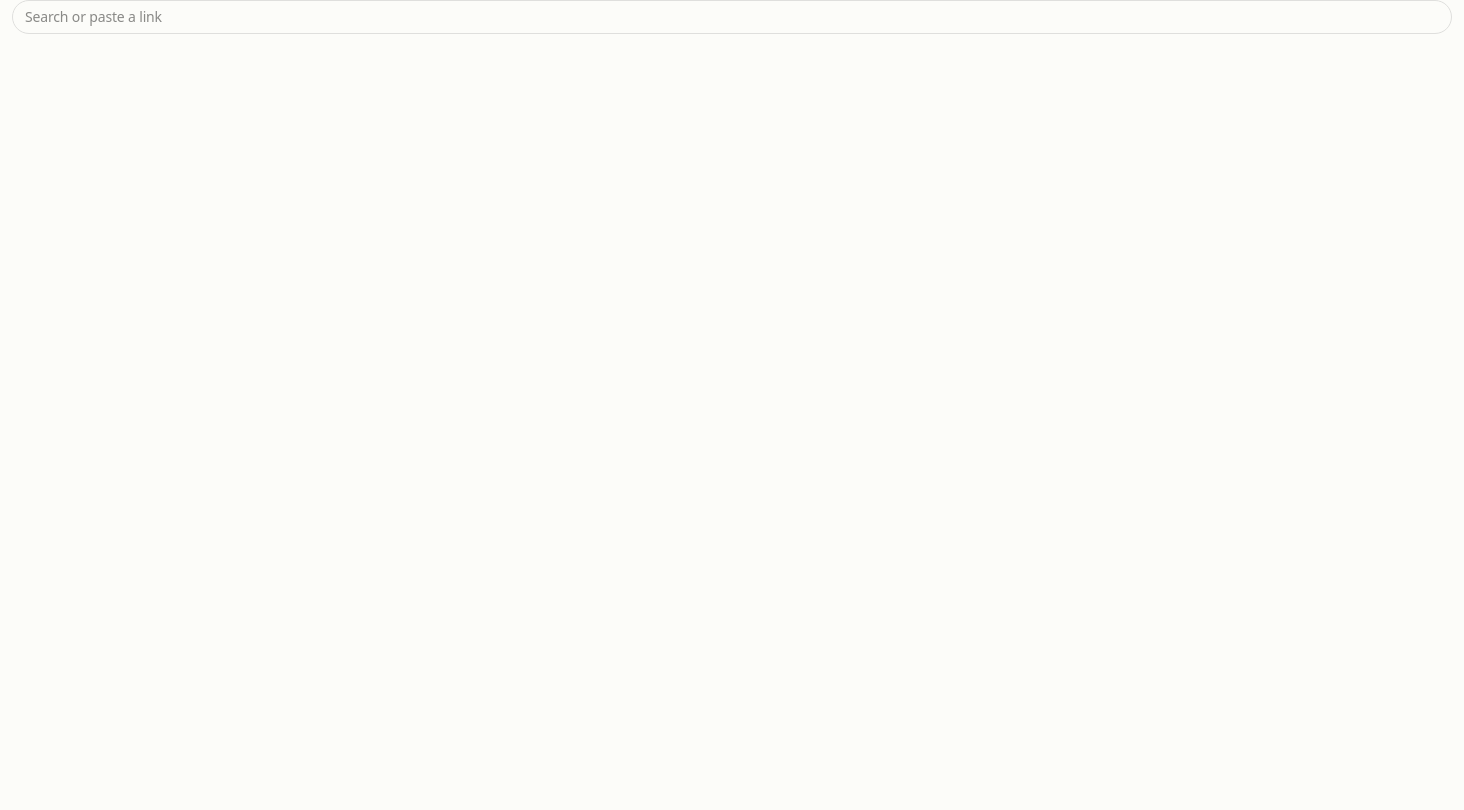
pasting map links › explains when a Google link carries no location
Click the dropdown named "Add a place": (732, 17) [12,0,1452,34]
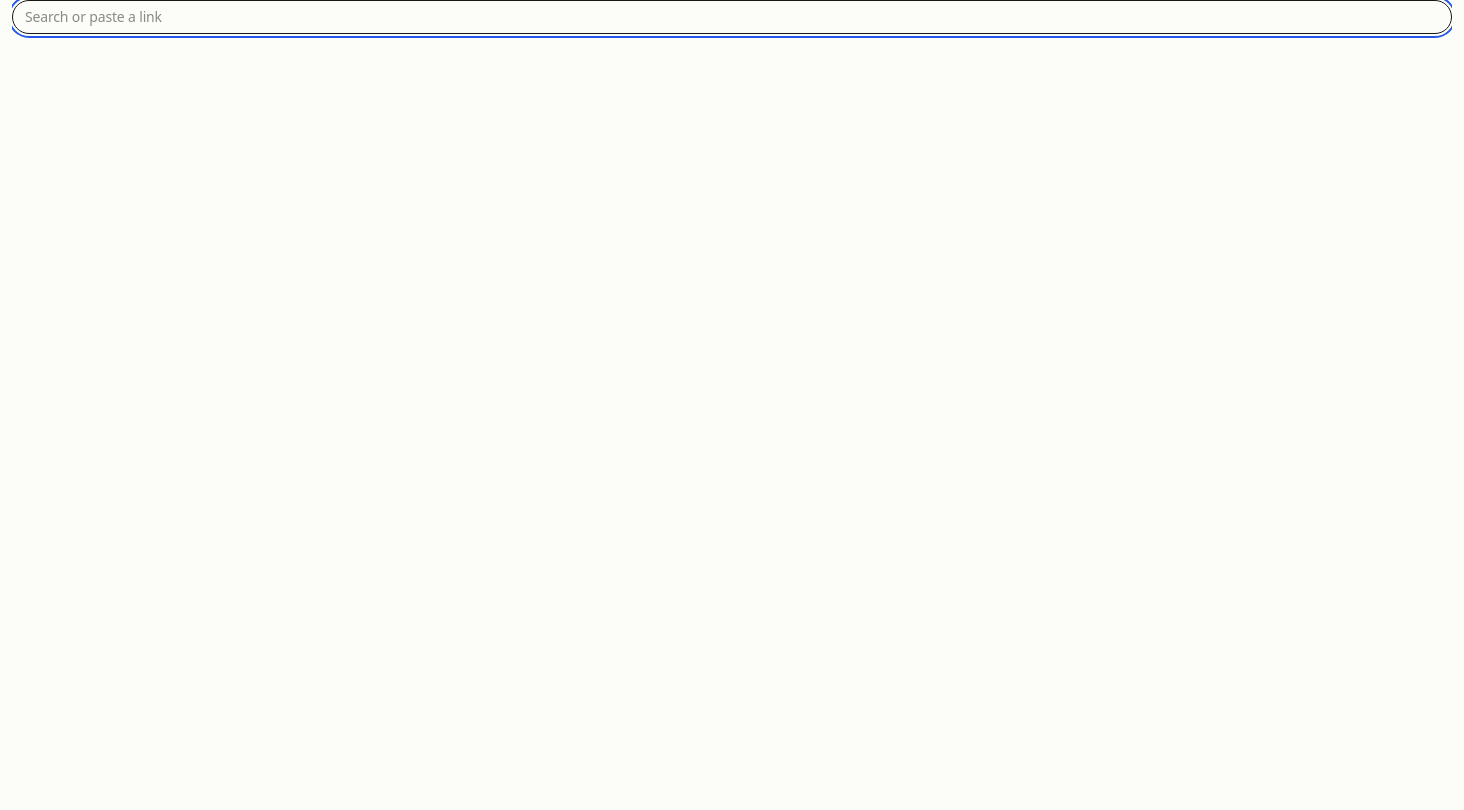
Type keys "https://www.google.com/maps"
(page scrolled)
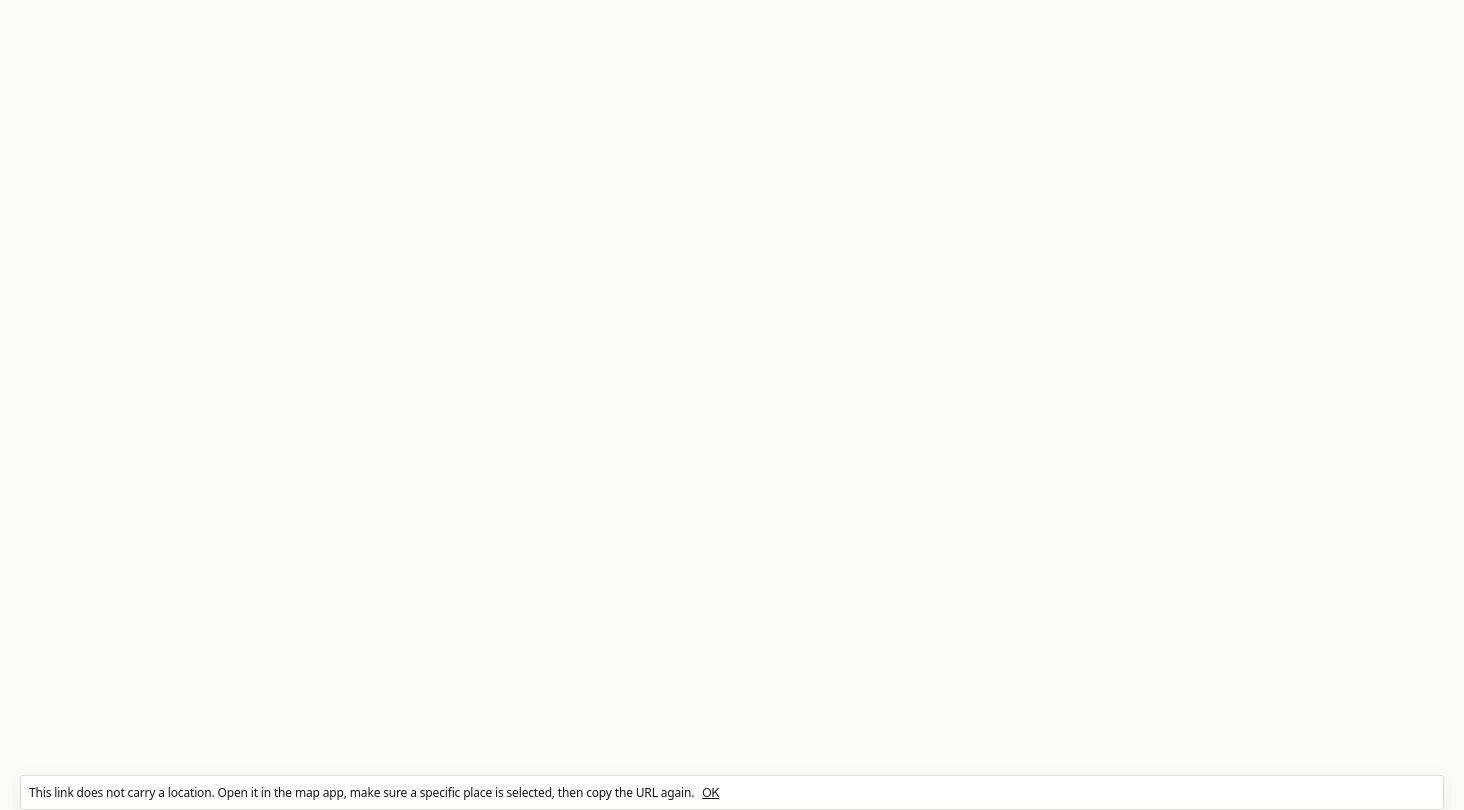
Now the element with test id "link-notice" shows "does not carry a location", box [29,784,694,801]
